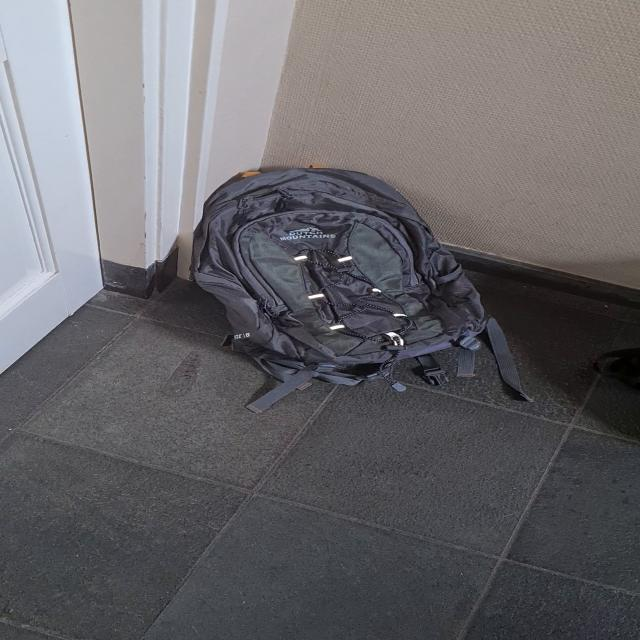backpack: (175, 160, 506, 400)
